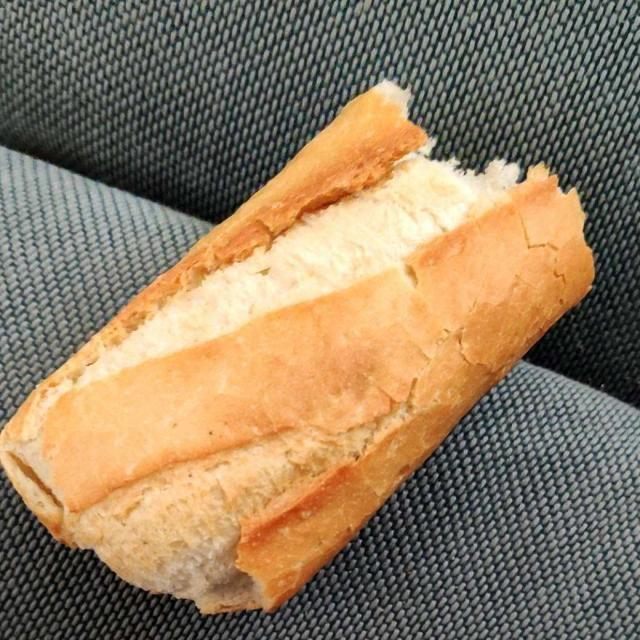bread: (8, 89, 590, 598)
